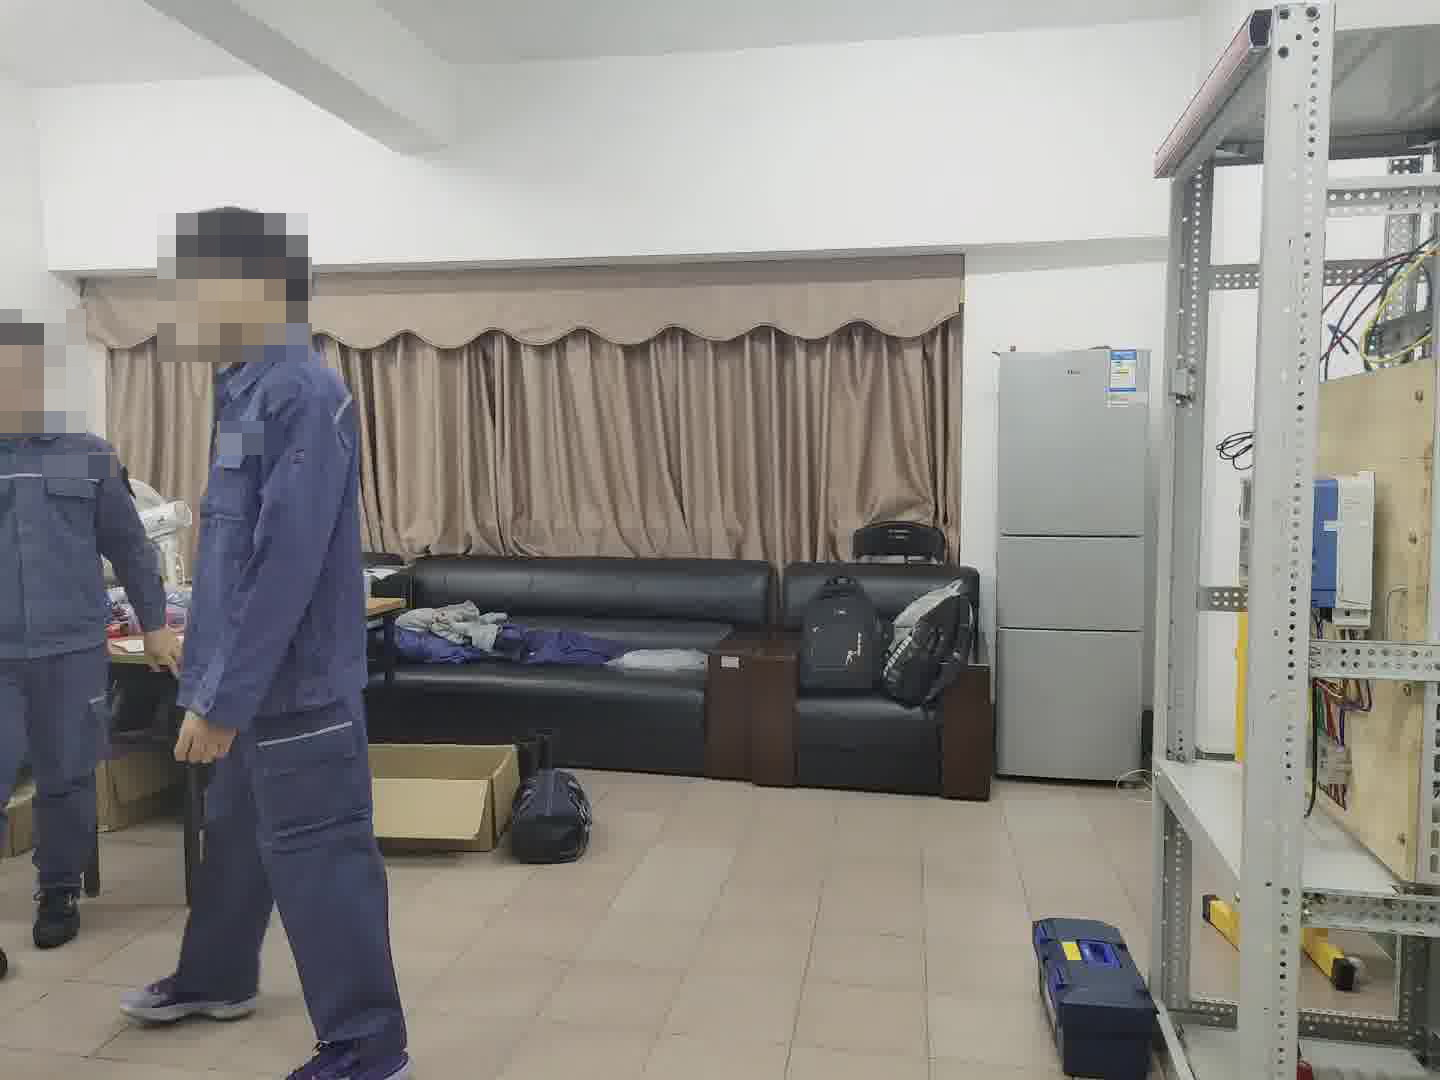downsuit: (176, 715, 413, 1072), (1, 674, 111, 916)
hand: (166, 712, 236, 767), (138, 627, 183, 678)
noear: (234, 258, 295, 327)
person: (138, 188, 425, 1077), (1, 302, 160, 954)
unhalt: (168, 200, 313, 344), (1, 308, 58, 421)
upsuit: (177, 325, 381, 709), (1, 421, 168, 657)
